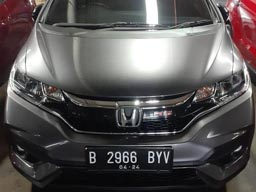plat: (88, 149, 174, 164)
